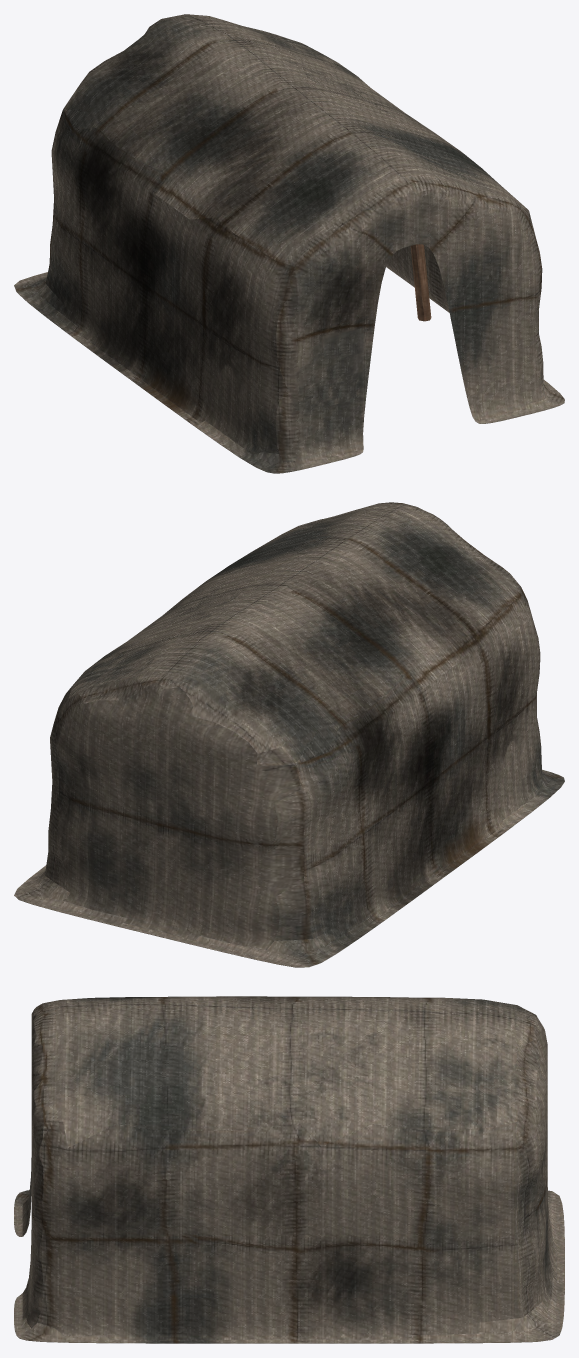
The model's file is Tent.fbx.
3 renders of one model, top to bottom at view 1: azimuth 30°, elevation 25°; view 2: azimuth 150°, elevation 25°; view 3: azimuth 270°, elevation 25°, orthographic. The views are drawn at different scales.
Visible parts, largest first — view 1: Tent; view 2: Tent; view 3: Tent.
Part boxes in pixels (x1=…): Tent: x1=14, y1=14, x2=564, y2=473; Tent: x1=14, y1=502, x2=564, y2=967; Tent: x1=14, y1=996, x2=564, y2=1343.
Bounding box in the file's own units: 345 × 269 × 513.
